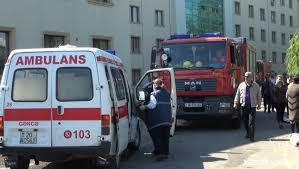Fire-engine: (153, 38, 265, 117)
